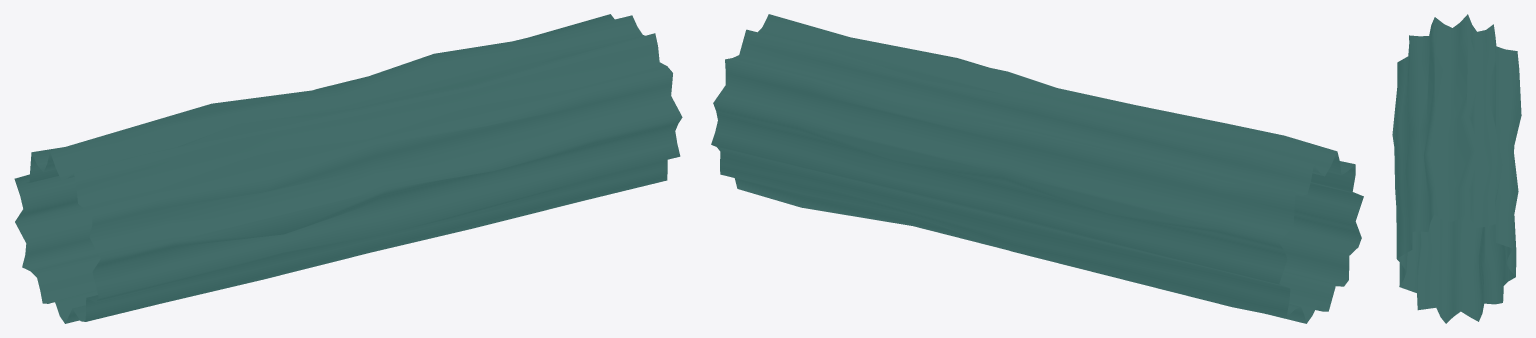
File: WaveAnim00.glb
3 renders of one model, left to right at view 1: azimuth 30°, elevation 25°; view 2: azimuth 150°, elevation 25°; view 3: azimuth 270°, elevation 25°, orthographic. The views are drawn at different scales.
Visible parts, largest first — view 1: waves00; view 2: waves00; view 3: waves00.
Boxes of the visible parts, left/top/right/bottom form: waves00: left=14, top=14, right=682, bottom=323; waves00: left=711, top=14, right=1363, bottom=323; waves00: left=1392, top=14, right=1521, bottom=323.
Bounding box in the file's own units: 28.75 × 7.87 × 7.98.
